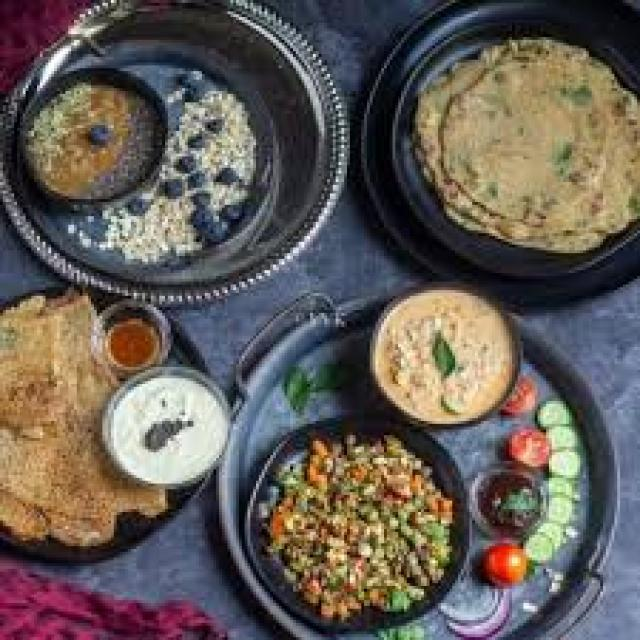dal: (369, 283, 523, 440)
papad: (2, 283, 100, 444)
rice: (413, 37, 631, 255), (263, 422, 461, 614)
sweet: (99, 303, 175, 373), (469, 539, 537, 591)
veg-fry: (18, 72, 171, 216), (471, 469, 549, 542)
